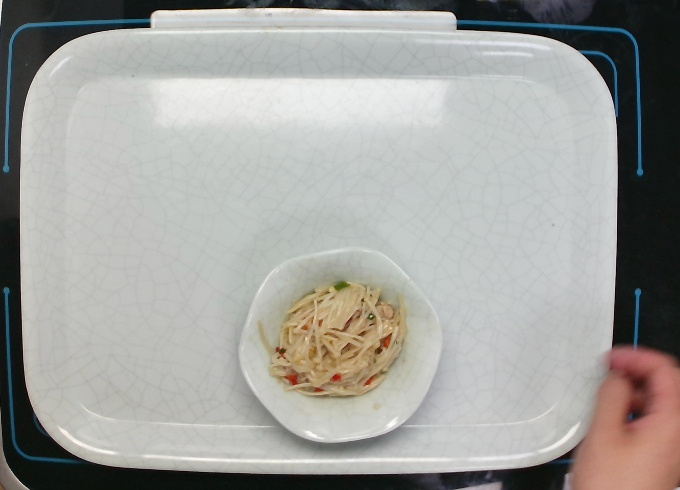WCQzf-Hua_Duo_Wan: (239, 242, 446, 447)
